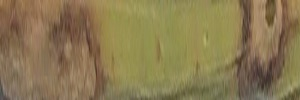RiceBlast: (1, 1, 109, 100), (237, 1, 288, 100)
